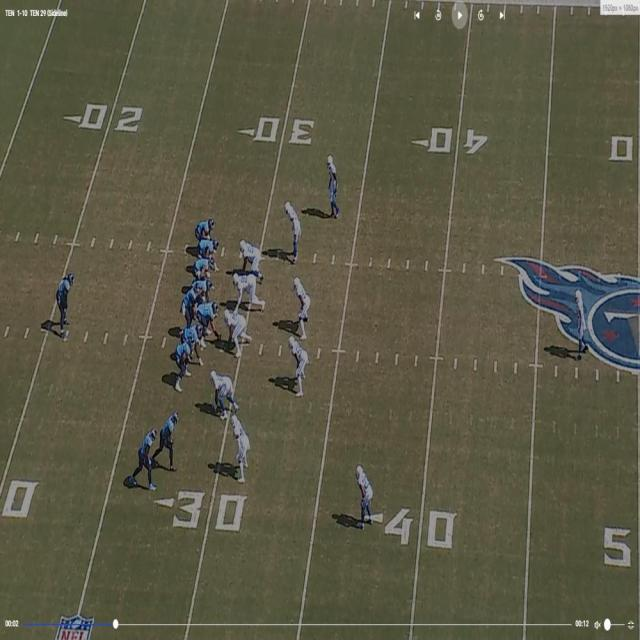center: (202, 297, 220, 342)
db: (357, 465, 373, 527), (285, 201, 298, 263), (576, 291, 588, 356), (328, 155, 338, 219)
lb: (232, 416, 246, 482), (291, 334, 307, 391), (297, 279, 310, 332)
qb: (184, 281, 201, 323)
skill: (132, 430, 155, 485), (56, 272, 73, 333), (163, 409, 177, 468), (198, 239, 221, 271), (197, 218, 216, 235)
